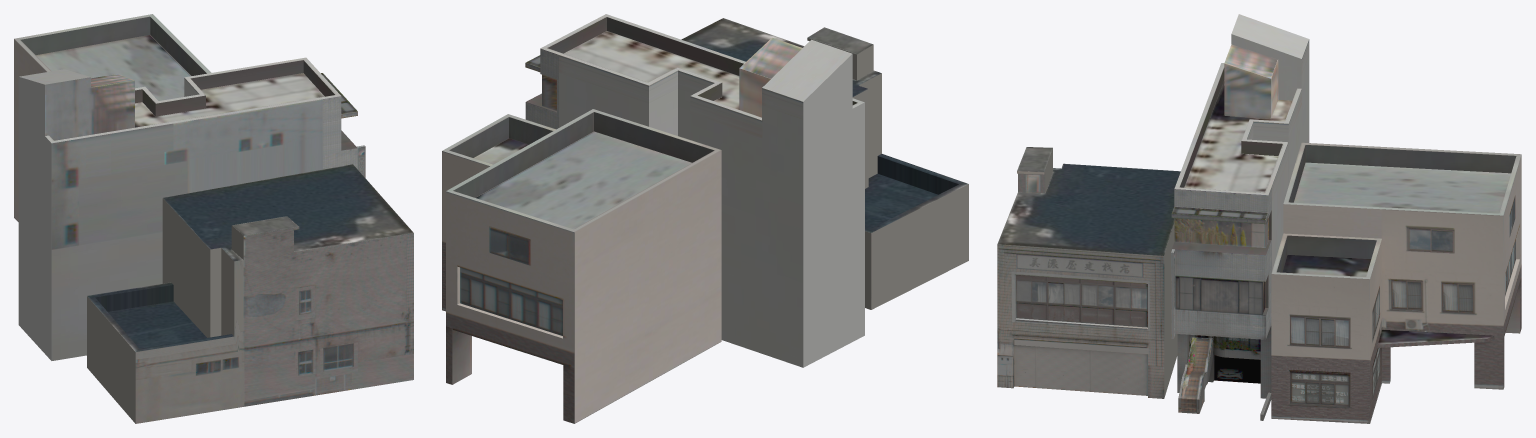
File: cp07_integrated.fbx
3 renders of one model, left to right at view 1: azimuth 30°, elevation 25°; view 2: azimuth 150°, elevation 25°; view 3: azimuth 270°, elevation 25°, orthographic. The views are drawn at different scales.
Visible parts, largest first — view 1: bldg_53f6145b_34a2_4a24_be1a_ef75fa81a805, bldg_18c82341_10b7_41a6_8dac_9a9ec81092fd, bldg_2c6d9d71_d486_40a9_a5ab_f6a62d953df5; view 2: bldg_2c6d9d71_d486_40a9_a5ab_f6a62d953df5, bldg_18c82341_10b7_41a6_8dac_9a9ec81092fd, bldg_53f6145b_34a2_4a24_be1a_ef75fa81a805; view 3: bldg_2c6d9d71_d486_40a9_a5ab_f6a62d953df5, bldg_53f6145b_34a2_4a24_be1a_ef75fa81a805, bldg_18c82341_10b7_41a6_8dac_9a9ec81092fd.
Boxes of the visible parts, x1,y1,x2,y2 form: bldg_53f6145b_34a2_4a24_be1a_ef75fa81a805: [87, 164, 413, 423]; bldg_18c82341_10b7_41a6_8dac_9a9ec81092fd: [18, 57, 365, 360]; bldg_2c6d9d71_d486_40a9_a5ab_f6a62d953df5: [14, 14, 211, 221]; bldg_2c6d9d71_d486_40a9_a5ab_f6a62d953df5: [442, 109, 721, 423]; bldg_18c82341_10b7_41a6_8dac_9a9ec81092fd: [525, 14, 864, 367]; bldg_53f6145b_34a2_4a24_be1a_ef75fa81a805: [681, 18, 968, 309]; bldg_2c6d9d71_d486_40a9_a5ab_f6a62d953df5: [1271, 142, 1521, 423]; bldg_53f6145b_34a2_4a24_be1a_ef75fa81a805: [997, 147, 1180, 398]; bldg_18c82341_10b7_41a6_8dac_9a9ec81092fd: [1171, 14, 1309, 420].
Size of the model in its own units: 1966 by 1557 by 2823.
